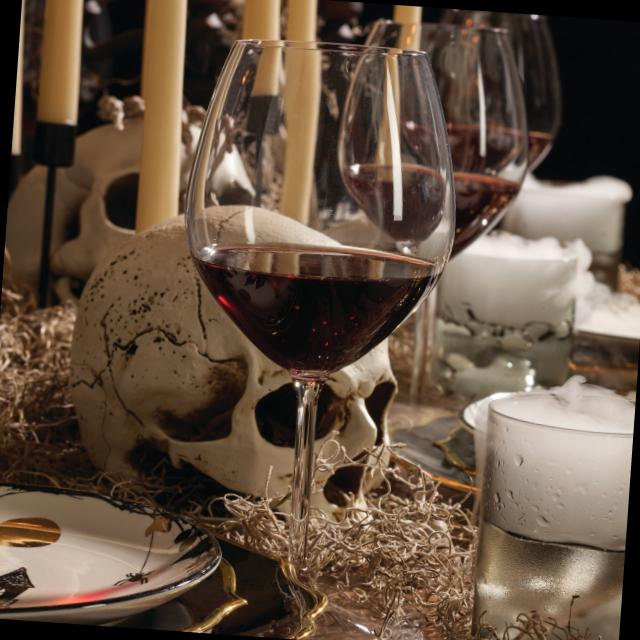glass: (157, 20, 472, 577), (297, 5, 563, 276)
